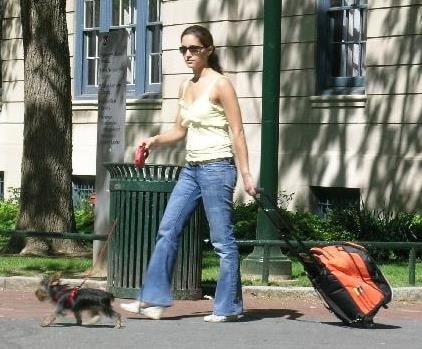pedestrian: (139, 10, 255, 324)
